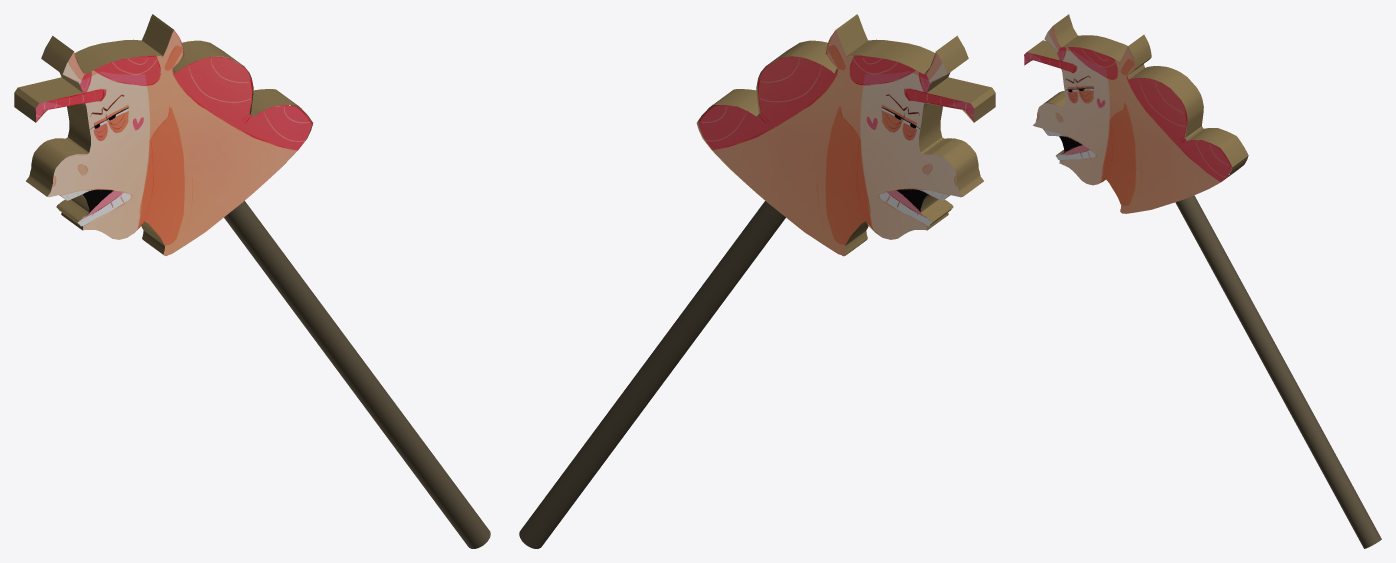
File: Licorne_Baton.fbx
3 renders of one model, left to right at view 1: azimuth 30°, elevation 25°; view 2: azimuth 150°, elevation 25°; view 3: azimuth 330°, elevation 25°, orthographic. The views are drawn at different scales.
Parts seen in each view (by area): view 1: Licorne_Tete, Licorne_Baton; view 2: Licorne_Tete, Licorne_Baton; view 3: Licorne_Tete, Licorne_Baton.
Boxes of the visible parts, bbox=[...] form: Licorne_Tete: bbox=[14, 14, 313, 256]; Licorne_Baton: bbox=[224, 201, 490, 548]; Licorne_Tete: bbox=[696, 14, 995, 256]; Licorne_Baton: bbox=[519, 201, 785, 548]; Licorne_Tete: bbox=[1024, 14, 1248, 213]; Licorne_Baton: bbox=[1175, 195, 1381, 548].
Size of the model in its own units: 116 by 144 by 9.33.
Materials: 3 (1 with a texture image).
